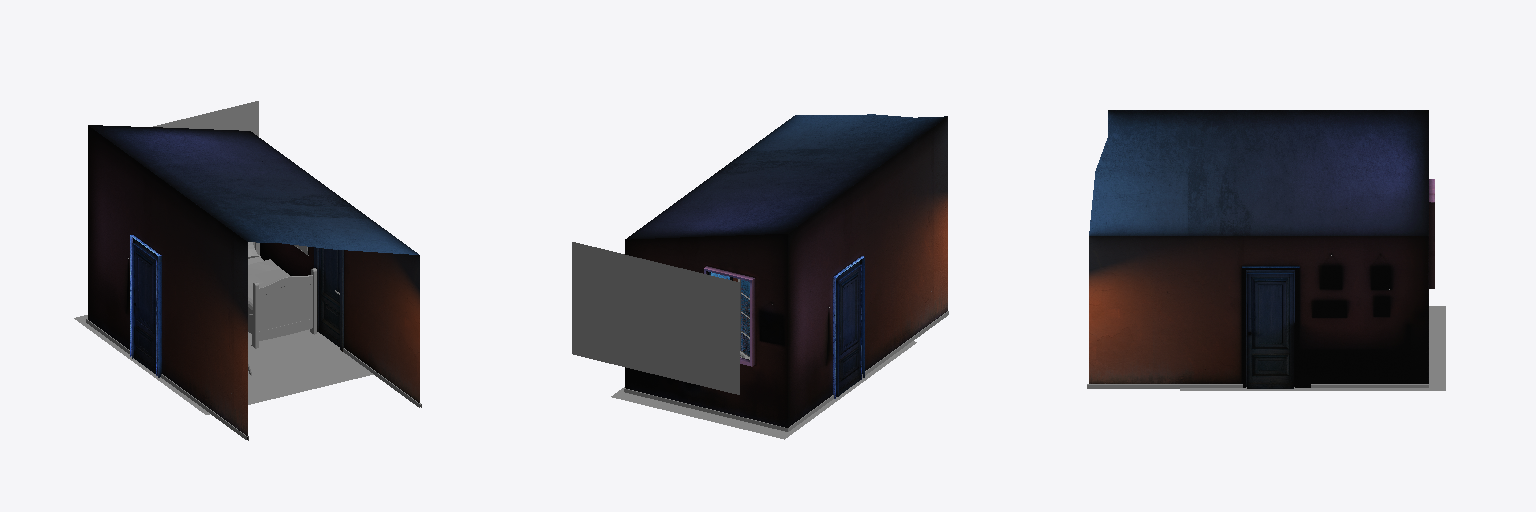
3 renders of one model, left to right at view 1: azimuth 30°, elevation 25°; view 2: azimuth 150°, elevation 25°; view 3: azimuth 270°, elevation 25°, orthographic.
Parts seen in each view (by area): view 1: walls, ceiling, Doors, FLOOR, bad, back, bad_for, bordur; view 2: walls, back, ceiling, Doors, FLOOR, bordur, glass2; view 3: walls, ceiling, Doors, FLOOR, bordur.
Boxes of the visible parts, x1,y1,x2,y2 form: walls: [88, 126, 419, 439]; ceiling: [88, 125, 418, 254]; Doors: [130, 235, 343, 377]; FLOOR: [74, 315, 373, 414]; bad: [248, 242, 316, 348]; back: [153, 101, 258, 136]; bad_for: [248, 242, 289, 313]; bordur: [86, 319, 421, 440]; walls: [625, 117, 947, 427]; back: [572, 242, 739, 394]; ceiling: [625, 114, 947, 239]; Doors: [833, 256, 864, 398]; FLOOR: [611, 341, 916, 439]; bordur: [624, 311, 948, 431]; glass2: [741, 280, 749, 355]; walls: [1089, 179, 1434, 387]; ceiling: [1089, 110, 1428, 235]; Doors: [1242, 266, 1299, 388]; FLOOR: [1180, 306, 1445, 390]; bordur: [1087, 384, 1428, 388].
Bounding box in the file's own units: 4.05 × 3.86 × 6.77.
18 materials, 7 textured.